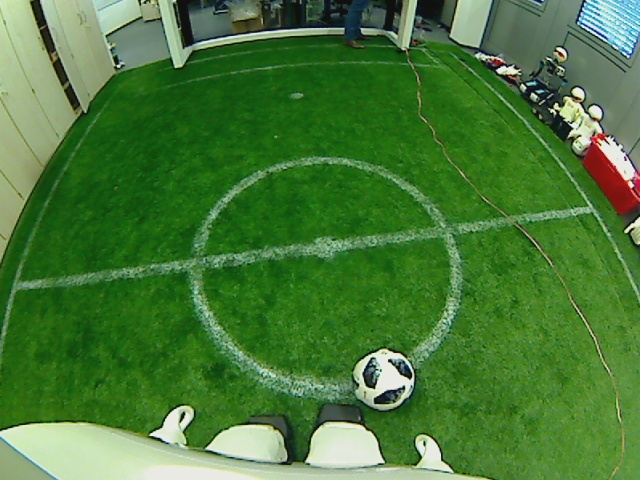ball: (353, 346, 415, 411)
